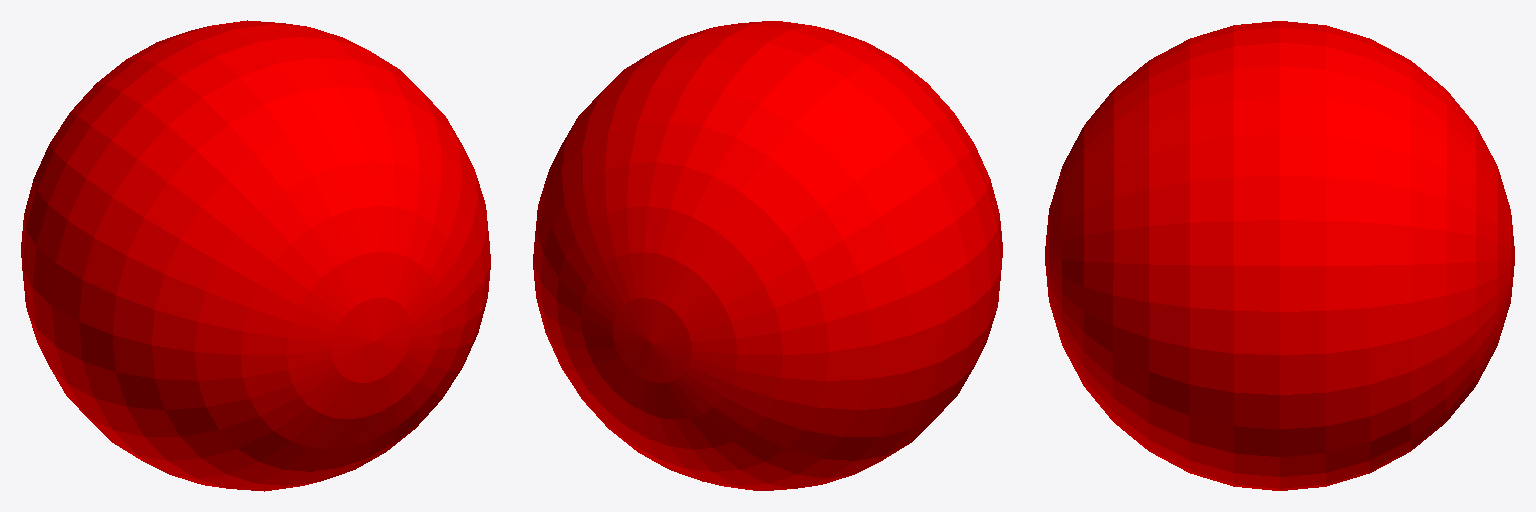
The robot description file, URDF, robot "k-bot_sim":
<?xml version="1.0" ?>
<robot name="k-bot_sim">
  <link name="floating_base_link">
    <visual name="floating_base_link_visual">
      <geometry name="floating_base_link_geometry">
        <sphere radius="0.01"/>
      </geometry>
      <material name="floating_base_link_material">
        <color rgba="1 0 0 1"/>
      </material>
      <origin xyz="0 0 0" rpy="1.57 0.00 0.00"/>
    </visual>
    <inertial name="floating_base_link_inertial">
      <mass value="0.001"/>
      <inertia ixx="0.000001" iyy="0.000001" izz="0.000002" ixy="0" ixz="0" iyz="0"/>
      <origin xyz="0 0 0" rpy="1.57 0.00 0.00"/>
    </inertial>
  </link>
  <joint name="floating_base_joint" type="floating">
    <parent link="floating_base_link"/>
    <child link="body1-part"/>
    <origin xyz="0 0 0" rpy="1.57 0.00 0.00"/>
  </joint>
  <joint name="imu_link" type="fixed">
    <origin xyz="0.039989 -0.127910 0" rpy="-1.570796 0 0"/>
    <parent link="body1-part"/>
    <child link="imu"/>
  </joint>
  <joint name="left_shoulder_pitch_03" type="revolute">
    <origin xyz="-0.000011 0.018090 0.188500" rpy="3.141593 0 3.141593"/>
    <parent link="body1-part"/>
    <child link="shoulder"/>
    <limit effort="60" velocity="6.283" lower="0" upper="3.141593"/>
    <axis xyz="0 0 1"/>
  </joint>
  <joint name="right_shoulder_pitch_03" type="revolute">
    <origin xyz="-0.000011 0.018090 -0.188500" rpy="0 0 -3.141593"/>
    <parent link="body1-part"/>
    <child link="shoulder_2"/>
    <limit effort="60" velocity="6.283" lower="-3.141593" upper="0"/>
    <axis xyz="0 0 1"/>
  </joint>
  <joint name="left_shoulder_roll_03" type="revolute">
    <origin xyz="0.023512 0.000056 -0.067500" rpy="1.570796 0 1.570796"/>
    <parent link="shoulder"/>
    <child link="arm1_top"/>
    <limit effort="60" velocity="6.283" lower="-3.630285" upper="0.479966"/>
    <axis xyz="0 0 -1"/>
  </joint>
  <joint name="right_shoulder_roll_03" type="revolute">
    <origin xyz="0.023512 -0.000056 -0.067500" rpy="1.570796 0 -1.570796"/>
    <parent link="shoulder_2"/>
    <child link="arm1_top_2"/>
    <limit effort="60" velocity="6.283" lower="-0.479966" upper="3.630285"/>
    <axis xyz="0 0 1"/>
  </joint>
  <joint name="left_hip_pitch_04" type="revolute">
    <origin xyz="-0.000011 -0.432010 0.088700" rpy="-3.141593 0 -3.141593"/>
    <parent link="body1-part"/>
    <child link="leg0_shell"/>
    <limit effort="120" velocity="6.283" lower="-1.570796" upper="1.570796"/>
    <axis xyz="0 0 1"/>
  </joint>
  <joint name="right_hip_pitch_04" type="revolute">
    <origin xyz="-0.000011 -0.432010 -0.089200" rpy="0 0 -3.141593"/>
    <parent link="body1-part"/>
    <child link="leg0_shell_2"/>
    <limit effort="120" velocity="6.283" lower="-1.570796" upper="1.570796"/>
    <axis xyz="0 0 1"/>
  </joint>
  <joint name="left_shoulder_yaw_02" type="revolute">
    <origin xyz="-0.140500 0 -0.023500" rpy="-1.570796 0 -1.570796"/>
    <parent link="arm1_top"/>
    <child link="arm2_shell"/>
    <limit effort="17" velocity="12.566" lower="-1.570796" upper="1.570796"/>
    <axis xyz="0 0 1"/>
  </joint>
  <joint name="right_shoulder_yaw_02" type="revolute">
    <origin xyz="-0.140500 0 0.022500" rpy="-3.141593 1.570796 0"/>
    <parent link="arm1_top_2"/>
    <child link="arm2_shell_2"/>
    <limit effort="17" velocity="12.566" lower="-1.570796" upper="1.570796"/>
    <axis xyz="0 0 -1"/>
  </joint>
  <joint name="left_hip_roll_03" type="revolute">
    <origin xyz="0.027500 0 -0.069500" rpy="-1.570796 0 1.570796"/>
    <parent link="leg0_shell"/>
    <child link="leg1_shell"/>
    <limit effort="60" velocity="6.283" lower="-3.185226" upper="0.349066"/>
    <axis xyz="0 0 1"/>
  </joint>
  <joint name="right_hip_roll_03" type="revolute">
    <origin xyz="0.027500 0 -0.069000" rpy="1.570796 0 -1.570796"/>
    <parent link="leg0_shell_2"/>
    <child link="leg1_shell3"/>
    <limit effort="60" velocity="6.283" lower="-0.349066" upper="3.185226"/>
    <axis xyz="0 0 1"/>
  </joint>
  <joint name="left_elbow_02" type="revolute">
    <origin xyz="-0.027000 0 -0.098000" rpy="-3.141593 -1.570796 0"/>
    <parent link="arm2_shell"/>
    <child link="arm3_shell"/>
    <limit effort="17" velocity="12.566" lower="-2.530727" upper="0"/>
    <axis xyz="0 0 1"/>
  </joint>
  <joint name="right_elbow_02" type="revolute">
    <origin xyz="0 -0.027000 0.097500" rpy="-1.570796 1.570796 0"/>
    <parent link="arm2_shell_2"/>
    <child link="arm3_shell2"/>
    <limit effort="17" velocity="12.566" lower="0" upper="2.530727"/>
    <axis xyz="0 0 1"/>
  </joint>
  <joint name="left_hip_yaw_03" type="revolute">
    <origin xyz="-0.157500 0.000120 0.027500" rpy="0 1.570796 0"/>
    <parent link="leg1_shell"/>
    <child link="leg2_shell"/>
    <limit effort="60" velocity="6.283" lower="-1.570796" upper="1.570796"/>
    <axis xyz="0 0 1"/>
  </joint>
  <joint name="right_hip_yaw_03" type="revolute">
    <origin xyz="-0.157500 -0.000120 0.027500" rpy="-3.141593 -1.570796 0"/>
    <parent link="leg1_shell3"/>
    <child link="leg2_shell_2"/>
    <limit effort="60" velocity="6.283" lower="-1.570796" upper="1.570796"/>
    <axis xyz="0 0 1"/>
  </joint>
  <joint name="left_wrist_02" type="revolute">
    <origin xyz="-0.182500 0 0.021500" rpy="-1.570796 0 -1.570796"/>
    <parent link="arm3_shell"/>
    <child link="hand_shell"/>
    <limit effort="17" velocity="12.566" lower="-3.141593" upper="3.141593"/>
    <axis xyz="0 0 1"/>
  </joint>
  <joint name="right_wrist_02" type="revolute">
    <origin xyz="-0.182500 0 0.021500" rpy="1.570796 0 1.570796"/>
    <parent link="arm3_shell2"/>
    <child link="hand_shell_2"/>
    <limit effort="17" velocity="12.566" lower="-3.141593" upper="3.141593"/>
    <axis xyz="0 0 1"/>
  </joint>
  <joint name="left_knee_04" type="revolute">
    <origin xyz="0 -0.027000 -0.142500" rpy="1.570796 0 0"/>
    <parent link="leg2_shell"/>
    <child link="leg3_shell1"/>
    <limit effort="120" velocity="6.283" lower="0" upper="2.094395"/>
    <axis xyz="0 0 -1"/>
  </joint>
  <joint name="right_knee_04" type="revolute">
    <origin xyz="0 -0.027000 -0.142500" rpy="1.570796 0 0"/>
    <parent link="leg2_shell_2"/>
    <child link="leg3_shell11"/>
    <limit effort="120" velocity="6.283" lower="-2.094395" upper="0"/>
    <axis xyz="0 0 -1"/>
  </joint>
  <joint name="right_ankle_02" type="revolute">
    <origin xyz="0 -0.300000 -0.035500" rpy="3.141593 0 3.141593"/>
    <parent link="leg3_shell11"/>
    <child link="foot3"/>
    <limit effort="17" velocity="12.566" lower="-0.698132" upper="0.698132"/>
    <axis xyz="0 0 1.0"/>
  </joint>
  <joint name="left_ankle_02" type="revolute">
    <origin xyz="0 -0.300000 0.009500" rpy="0 0 0"/>
    <parent link="leg3_shell1"/>
    <child link="foot1"/>
    <limit effort="17" velocity="12.566" lower="-0.698132" upper="0.698132"/>
    <axis xyz="0 0 -1"/>
  </joint>
  <link name="body1-part">
    <visual name="body1-part_visual">
      <origin xyz="0 0 0" rpy="0 0 0"/>
      <geometry name="body1-part_geometry">
        <mesh filename="meshes/body1-part.stl"/>
      </geometry>
      <material name="body1-part_material">
        <color rgba="1 1 1 1"/>
      </material>
    </visual>
    <collision name="body1-part.collision">
      <origin xyz="0 0 0" rpy="0 0 0"/>
      <geometry name="body1-part_collision_geometry">
        <mesh filename="meshes/body1-part.collision.stl"/>
      </geometry>
    </collision>
    <inertial name="body1-part_inertial">
      <mass value="9.415838"/>
      <inertia ixx="0.406102" iyy="0.096732" izz="0.321504" ixy="0.001018" ixz="0.000014" iyz="-0.000180"/>
      <origin xyz="-0.000153 -0.214129 -0.000094" rpy="0 0 0"/>
    </inertial>
  </link>
  <link name="imu">
    <visual name="imu_visual">
      <origin xyz="0 0 0" rpy="0 0 0"/>
      <geometry name="imu_geometry">
        <mesh filename="meshes/imu.stl"/>
      </geometry>
      <material name="imu_material">
        <color rgba="0.615686 0.811765 0.929412 1"/>
      </material>
    </visual>
    <inertial name="imu_inertial">
      <mass value="0.010000"/>
      <inertia ixx="0.000001" iyy="0.000001" izz="0.000002" ixy="0" ixz="0" iyz="0"/>
      <origin xyz="-0.007500 0 0.006000" rpy="0 0 0"/>
    </inertial>
  </link>
  <link name="shoulder">
    <visual name="shoulder_visual">
      <origin xyz="0 0 0" rpy="0 0 0"/>
      <geometry name="shoulder_geometry">
        <mesh filename="meshes/shoulder.stl"/>
      </geometry>
      <material name="shoulder_material">
        <color rgba="1 1 1 1"/>
      </material>
    </visual>
    <collision name="shoulder.collision">
      <origin xyz="0 0 0" rpy="0 0 0"/>
      <geometry name="shoulder_collision_geometry">
        <mesh filename="meshes/shoulder.collision.stl"/>
      </geometry>
    </collision>
    <inertial name="shoulder_inertial">
      <mass value="1.107356"/>
      <inertia ixx="0.001481" iyy="0.001039" izz="0.000986" ixy="0" ixz="-0.000003" iyz="0"/>
      <origin xyz="-0.002144 0.000055 -0.066483" rpy="0 0 0"/>
    </inertial>
  </link>
  <link name="shoulder_2">
    <visual name="shoulder_visual_2">
      <origin xyz="0 0 0" rpy="0 0 0"/>
      <geometry name="shoulder_geometry_2">
        <mesh filename="meshes/shoulder_2.stl"/>
      </geometry>
      <material name="shoulder_material_2">
        <color rgba="1 1 1 1"/>
      </material>
    </visual>
    <collision name="shoulder.collision_2">
      <origin xyz="0 0 0" rpy="0 0 0"/>
      <geometry name="shoulder_collision_geometry_2">
        <mesh filename="meshes/shoulder_2.collision.stl"/>
      </geometry>
    </collision>
    <inertial name="shoulder_inertial_2">
      <mass value="1.107354"/>
      <inertia ixx="0.001481" iyy="0.001039" izz="0.000986" ixy="0" ixz="-0.000003" iyz="0"/>
      <origin xyz="-0.002144 -0.000055 -0.066483" rpy="0 0 0"/>
    </inertial>
  </link>
  <link name="arm1_top">
    <visual name="arm1_top_visual">
      <origin xyz="0 0 0" rpy="0 0 0"/>
      <geometry name="arm1_top_geometry">
        <mesh filename="meshes/arm1_top.stl"/>
      </geometry>
      <material name="arm1_top_material">
        <color rgba="0.898039 0.917647 0.929412 1"/>
      </material>
    </visual>
    <inertial name="arm1_top_inertial">
      <mass value="0.572732"/>
      <inertia ixx="0.000453" iyy="0.001076" izz="0.001035" ixy="0" ixz="-0.000195" iyz="0"/>
      <origin xyz="-0.099486 -0.000001 -0.019082" rpy="0 0 0"/>
    </inertial>
  </link>
  <link name="arm1_top_2">
    <visual name="arm1_top_2_visual">
      <origin xyz="0 0 0" rpy="0 0 0"/>
      <geometry name="arm1_top_2_geometry">
        <mesh filename="meshes/arm1_top_2.stl"/>
      </geometry>
      <material name="arm1_top_2_material">
        <color rgba="0.898039 0.917647 0.929412 1"/>
      </material>
    </visual>
    <inertial name="arm1_top_2_inertial">
      <mass value="0.572732"/>
      <inertia ixx="0.000453" iyy="0.001076" izz="0.001035" ixy="0" ixz="0.000195" iyz="0"/>
      <origin xyz="-0.099486 -0.000001 0.018082" rpy="0 0 0"/>
    </inertial>
  </link>
  <link name="leg0_shell">
    <visual name="leg0_shell_visual">
      <origin xyz="0 0 0" rpy="0 0 0"/>
      <geometry name="leg0_shell_geometry">
        <mesh filename="meshes/leg0_shell.stl"/>
      </geometry>
      <material name="leg0_shell_material">
        <color rgba="0.898039 0.917647 0.929412 1"/>
      </material>
    </visual>
    <collision name="leg0_shell.collision">
      <origin xyz="0 0 0" rpy="0 0 0"/>
      <geometry name="leg0_shell_collision_geometry">
        <mesh filename="meshes/leg0_shell.collision.stl"/>
      </geometry>
    </collision>
    <inertial name="leg0_shell_inertial">
      <mass value="1.323448"/>
      <inertia ixx="0.001886" iyy="0.001425" izz="0.001300" ixy="0" ixz="0.000007" iyz="0"/>
      <origin xyz="-0.003746 0 -0.068125" rpy="0 0 0"/>
    </inertial>
  </link>
  <link name="leg0_shell_2">
    <visual name="leg0_shell_visual_2">
      <origin xyz="0 0 0" rpy="0 0 0"/>
      <geometry name="leg0_shell_geometry_2">
        <mesh filename="meshes/leg0_shell_2.stl"/>
      </geometry>
      <material name="leg0_shell_material_2">
        <color rgba="0.898039 0.917647 0.929412 1"/>
      </material>
    </visual>
    <collision name="leg0_shell.collision_2">
      <origin xyz="0 0 0" rpy="0 0 0"/>
      <geometry name="leg0_shell_collision_geometry_2">
        <mesh filename="meshes/leg0_shell_2.collision.stl"/>
      </geometry>
    </collision>
    <inertial name="leg0_shell_inertial_2">
      <mass value="1.323448"/>
      <inertia ixx="0.001886" iyy="0.001425" izz="0.001300" ixy="0" ixz="0.000007" iyz="0"/>
      <origin xyz="-0.003746 0 -0.067625" rpy="0 0 0"/>
    </inertial>
  </link>
  <link name="arm2_shell">
    <visual name="arm2_shell_visual">
      <origin xyz="0 0 0" rpy="0 0 0"/>
      <geometry name="arm2_shell_geometry">
        <mesh filename="meshes/arm2_shell.stl"/>
      </geometry>
      <material name="arm2_shell_material">
        <color rgba="0.898039 0.917647 0.929412 1"/>
      </material>
    </visual>
    <collision name="arm2_shell.collision">
      <origin xyz="0 0 0" rpy="0 0 0"/>
      <geometry name="arm2_shell_collision_geometry">
        <mesh filename="meshes/arm2_shell.collision.stl"/>
      </geometry>
    </collision>
    <inertial name="arm2_shell_inertial">
      <mass value="0.510678"/>
      <inertia ixx="0.000675" iyy="0.000532" izz="0.000255" ixy="0" ixz="-0.000006" iyz="0"/>
      <origin xyz="-0.006339 0 -0.090482" rpy="0 0 0"/>
    </inertial>
  </link>
  <link name="arm2_shell_2">
    <visual name="arm2_shell_visual_2">
      <origin xyz="0 0 0" rpy="0 0 0"/>
      <geometry name="arm2_shell_geometry_2">
        <mesh filename="meshes/arm2_shell_2.stl"/>
      </geometry>
      <material name="arm2_shell_material_2">
        <color rgba="0.898039 0.917647 0.929412 1"/>
      </material>
    </visual>
    <collision name="arm2_shell.collision_2">
      <origin xyz="0 0 0" rpy="0 0 0"/>
      <geometry name="arm2_shell_collision_geometry_2">
        <mesh filename="meshes/arm2_shell_2.collision.stl"/>
      </geometry>
    </collision>
    <inertial name="arm2_shell_inertial_2">
      <mass value="0.510678"/>
      <inertia ixx="0.000532" iyy="0.000675" izz="0.000255" ixy="0" ixz="0" iyz="0.000006"/>
      <origin xyz="0 -0.006339 0.089982" rpy="0 0 0"/>
    </inertial>
  </link>
  <link name="leg1_shell">
    <visual name="leg1_shell_visual">
      <origin xyz="0 0 0" rpy="0 0 0"/>
      <geometry name="leg1_shell_geometry">
        <mesh filename="meshes/leg1_shell.stl"/>
      </geometry>
      <material name="leg1_shell_material">
        <color rgba="0.898039 0.917647 0.929412 1"/>
      </material>
    </visual>
    <inertial name="leg1_shell_inertial">
      <mass value="1.264352"/>
      <inertia ixx="0.001481" iyy="0.002486" izz="0.002413" ixy="-0.000018" ixz="0.000290" iyz="-0.000002"/>
      <origin xyz="-0.112524 0.000529 0.025259" rpy="0 0 0"/>
    </inertial>
  </link>
  <link name="leg1_shell3">
    <visual name="leg1_shell3_visual">
      <origin xyz="0 0 0" rpy="0 0 0"/>
      <geometry name="leg1_shell3_geometry">
        <mesh filename="meshes/leg1_shell3.stl"/>
      </geometry>
      <material name="leg1_shell3_material">
        <color rgba="0.898039 0.917647 0.929412 1"/>
      </material>
    </visual>
    <inertial name="leg1_shell3_inertial">
      <mass value="1.264352"/>
      <inertia ixx="0.001481" iyy="0.002486" izz="0.002413" ixy="0.000018" ixz="0.000290" iyz="0.000002"/>
      <origin xyz="-0.112524 -0.000529 0.025259" rpy="0 0 0"/>
    </inertial>
  </link>
  <link name="arm3_shell">
    <visual name="arm3_shell_visual">
      <origin xyz="0 0 0" rpy="0 0 0"/>
      <geometry name="arm3_shell_geometry">
        <mesh filename="meshes/arm3_shell.stl"/>
      </geometry>
      <material name="arm3_shell_material">
        <color rgba="0.898039 0.917647 0.929412 1"/>
      </material>
    </visual>
    <inertial name="arm3_shell_inertial">
      <mass value="0.578536"/>
      <inertia ixx="0.000428" iyy="0.001354" izz="0.001332" ixy="0" ixz="0.000144" iyz="0"/>
      <origin xyz="-0.140169 0 0.019433" rpy="0 0 0"/>
    </inertial>
  </link>
  <link name="arm3_shell2">
    <visual name="arm3_shell2_visual">
      <origin xyz="0 0 0" rpy="0 0 0"/>
      <geometry name="arm3_shell2_geometry">
        <mesh filename="meshes/arm3_shell2.stl"/>
      </geometry>
      <material name="arm3_shell2_material">
        <color rgba="0.898039 0.917647 0.929412 1"/>
      </material>
    </visual>
    <inertial name="arm3_shell2_inertial">
      <mass value="0.578536"/>
      <inertia ixx="0.000428" iyy="0.001354" izz="0.001332" ixy="0" ixz="0.000144" iyz="0"/>
      <origin xyz="-0.140169 0 0.019433" rpy="0 0 0"/>
    </inertial>
  </link>
  <link name="leg2_shell">
    <visual name="leg2_shell_visual">
      <origin xyz="0 0 0" rpy="0 0 0"/>
      <geometry name="leg2_shell_geometry">
        <mesh filename="meshes/leg2_shell.stl"/>
      </geometry>
      <material name="leg2_shell_material">
        <color rgba="0.898039 0.917647 0.929412 1"/>
      </material>
    </visual>
    <inertial name="leg2_shell_inertial">
      <mass value="1.820923"/>
      <inertia ixx="0.003118" iyy="0.004225" izz="0.002064" ixy="0" ixz="0" iyz="-0.000034"/>
      <origin xyz="0 0.000532 -0.137308" rpy="0 0 0"/>
    </inertial>
  </link>
  <link name="leg2_shell_2">
    <visual name="leg2_shell_visual_2">
      <origin xyz="0 0 0" rpy="0 0 0"/>
      <geometry name="leg2_shell_geometry_2">
        <mesh filename="meshes/leg2_shell_2.stl"/>
      </geometry>
      <material name="leg2_shell_material_2">
        <color rgba="0.898039 0.917647 0.929412 1"/>
      </material>
    </visual>
    <inertial name="leg2_shell_inertial_2">
      <mass value="1.820923"/>
      <inertia ixx="0.003118" iyy="0.004225" izz="0.002064" ixy="0" ixz="0" iyz="-0.000034"/>
      <origin xyz="0 0.000532 -0.137308" rpy="0 0 0"/>
    </inertial>
  </link>
  <link name="hand_shell">
    <visual name="hand_shell_visual">
      <origin xyz="0 0 0" rpy="0 0 0"/>
      <geometry name="hand_shell_geometry">
        <mesh filename="meshes/hand_shell.stl"/>
      </geometry>
      <material name="hand_shell_material">
        <color rgba="0.898039 0.917647 0.929412 1"/>
      </material>
    </visual>
    <collision name="hand_shell.collision">
      <origin xyz="0 0 0" rpy="0 0 0"/>
      <geometry name="hand_shell_collision_geometry">
        <mesh filename="meshes/hand_shell.collision.stl"/>
      </geometry>
    </collision>
    <inertial name="hand_shell_inertial">
      <mass value="0.793063"/>
      <inertia ixx="0.002034" iyy="0.002869" izz="0.001280" ixy="0" ixz="-0.000023" iyz="0.000004"/>
      <origin xyz="0.000709 0.000130 -0.074657" rpy="0 0 0"/>
    </inertial>
  </link>
  <link name="hand_shell_2">
    <visual name="hand_shell_visual_2">
      <origin xyz="0 0 0" rpy="0 0 0"/>
      <geometry name="hand_shell_geometry_2">
        <mesh filename="meshes/hand_shell_2.stl"/>
      </geometry>
      <material name="hand_shell_material_2">
        <color rgba="0.898039 0.917647 0.929412 1"/>
      </material>
    </visual>
    <collision name="hand_shell.collision_2">
      <origin xyz="0 0 0" rpy="0 0 0"/>
      <geometry name="hand_shell_collision_geometry_2">
        <mesh filename="meshes/hand_shell_2.collision.stl"/>
      </geometry>
    </collision>
    <inertial name="hand_shell_inertial_2">
      <mass value="0.793063"/>
      <inertia ixx="0.002034" iyy="0.002869" izz="0.001280" ixy="0" ixz="-0.000023" iyz="0.000004"/>
      <origin xyz="0.000709 0.000130 -0.074657" rpy="0 0 0"/>
    </inertial>
  </link>
  <link name="leg3_shell1">
    <visual name="leg3_shell1_visual">
      <origin xyz="0 0 0" rpy="0 0 0"/>
      <geometry name="leg3_shell1_geometry">
        <mesh filename="meshes/leg3_shell1.stl"/>
      </geometry>
      <material name="leg3_shell1_material">
        <color rgba="0.898039 0.917647 0.929412 1"/>
      </material>
    </visual>
    <collision name="leg3_shell1.collision">
      <origin xyz="0 0 0" rpy="0 0 0"/>
      <geometry name="leg3_shell1_collision_geometry">
        <mesh filename="meshes/leg3_shell1.collision.stl"/>
      </geometry>
    </collision>
    <inertial name="leg3_shell1_inertial">
      <mass value="1.109955"/>
      <inertia ixx="0.006740" iyy="0.001013" izz="0.006746" ixy="0.000062" ixz="-0.000017" iyz="0.000013"/>
      <origin xyz="0.001098 -0.131322 -0.023162" rpy="0 0 0"/>
    </inertial>
  </link>
  <link name="leg3_shell11">
    <visual name="leg3_shell11_visual">
      <origin xyz="0 0 0" rpy="0 0 0"/>
      <geometry name="leg3_shell11_geometry">
        <mesh filename="meshes/leg3_shell11.stl"/>
      </geometry>
      <material name="leg3_shell11_material">
        <color rgba="0.898039 0.917647 0.929412 1"/>
      </material>
    </visual>
    <collision name="leg3_shell11.collision">
      <origin xyz="0 0 0" rpy="0 0 0"/>
      <geometry name="leg3_shell11_collision_geometry">
        <mesh filename="meshes/leg3_shell11.collision.stl"/>
      </geometry>
    </collision>
    <inertial name="leg3_shell11_inertial">
      <mass value="1.109962"/>
      <inertia ixx="0.006740" iyy="0.001013" izz="0.006746" ixy="-0.000062" ixz="0.000017" iyz="0.000013"/>
      <origin xyz="-0.001098 -0.131322 -0.023162" rpy="0 0 0"/>
    </inertial>
  </link>
  <link name="foot3">
    <visual name="foot3_visual">
      <origin xyz="0 0 0" rpy="0 0 0"/>
      <geometry name="foot3_geometry">
        <mesh filename="meshes/foot3.stl"/>
      </geometry>
      <material name="foot3_material">
        <color rgba="0.898039 0.917647 0.929412 1"/>
      </material>
    </visual>
    <collision name="foot3.collision">
      <origin xyz="0 0 0" rpy="0 0 0"/>
      <geometry name="foot3_collision_geometry">
        <mesh filename="meshes/foot3.collision.stl"/>
      </geometry>
    </collision>
    <inertial name="foot3_inertial">
      <mass value="0.582091"/>
      <inertia ixx="0.000284" iyy="0.002188" izz="0.002024" ixy="0.000040" ixz="0.000033" iyz="-0.000004"/>
      <origin xyz="0.021350 -0.019419 -0.023724" rpy="0 0 0"/>
    </inertial>
  </link>
  <link name="foot1">
    <visual name="foot1_visual">
      <origin xyz="0 0 0" rpy="0 0 0"/>
      <geometry name="foot1_geometry">
        <mesh filename="meshes/foot1.stl"/>
      </geometry>
      <material name="foot1_material">
        <color rgba="0.898039 0.917647 0.929412 1"/>
      </material>
    </visual>
    <collision name="foot1.collision">
      <origin xyz="0 0 0" rpy="0 0 0"/>
      <geometry name="foot1_collision_geometry">
        <mesh filename="meshes/foot1.collision.stl"/>
      </geometry>
    </collision>
    <inertial name="foot1_inertial">
      <mass value="0.582091"/>
      <inertia ixx="0.000284" iyy="0.002188" izz="0.002024" ixy="0.000040" ixz="-0.000033" iyz="0.000004"/>
      <origin xyz="0.021350 -0.019419 -0.019276" rpy="0 0 0"/>
    </inertial>
  </link>
</robot>

--- What the picture shows (computed from the rendered views, not written in the file) ---
The picture shows the robot from 3 angles, left to right: view 1: azimuth 30°, elevation 25°; view 2: azimuth 150°, elevation 25°; view 3: azimuth 270°, elevation 25°; orthographic projection.
Model k-bot_sim with 23 links and 22 joints (20 revolute, 1 fixed, 1 floating), rooted at floating_base_link, posed every joint at zero.
Visible links, largest first — view 1: floating_base_link; view 2: floating_base_link; view 3: floating_base_link.
Boxes of the visible links, x1,y1,x2,y2 form: floating_base_link: (21, 20, 490, 491); floating_base_link: (533, 21, 1002, 490); floating_base_link: (1045, 21, 1514, 490).
Size in the robot's own frame: 0.02 by 0.02 by 0.02 metres.
Meshes: 22 distinct files referenced, 0 mesh visuals loaded (none loaded); not drawn: 22 (reference not matched to a file when rendering).